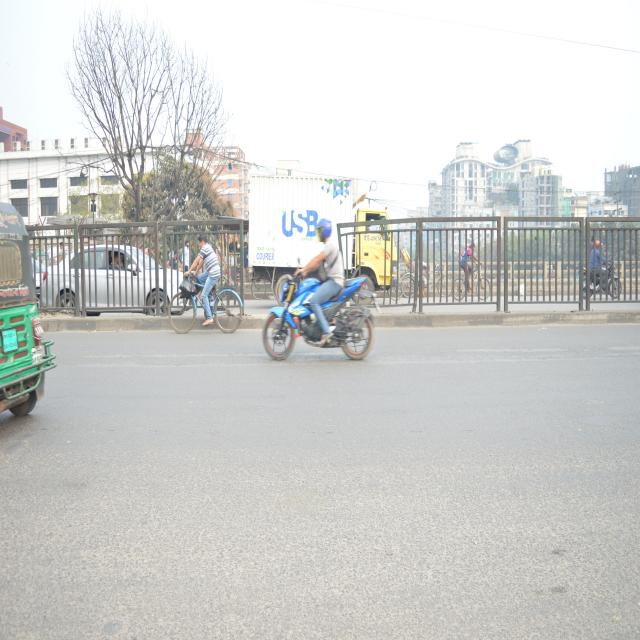car: (37, 242, 179, 330)
motorbike: (262, 273, 378, 367), (574, 248, 626, 320)
truck: (242, 155, 402, 299)
